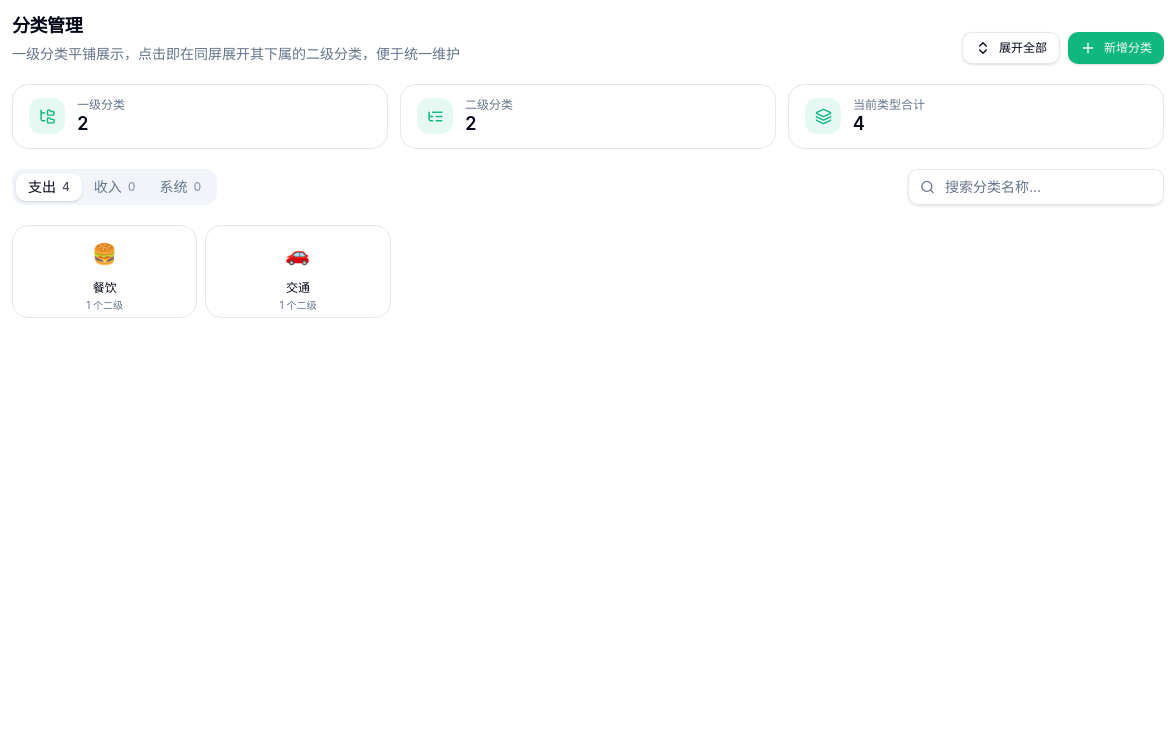
Test: 分类管理页 - 层级展示 › 展开一级分类后，二级分类内联出现在该一级同屏的面板内（核心修复点）
expect the text "餐饮" is shown: met, box [93,280,117,294]
Click the button with test id "category-group" showing "🍔 餐饮 1 个二级" at [105, 271], box [12,224,197,318]
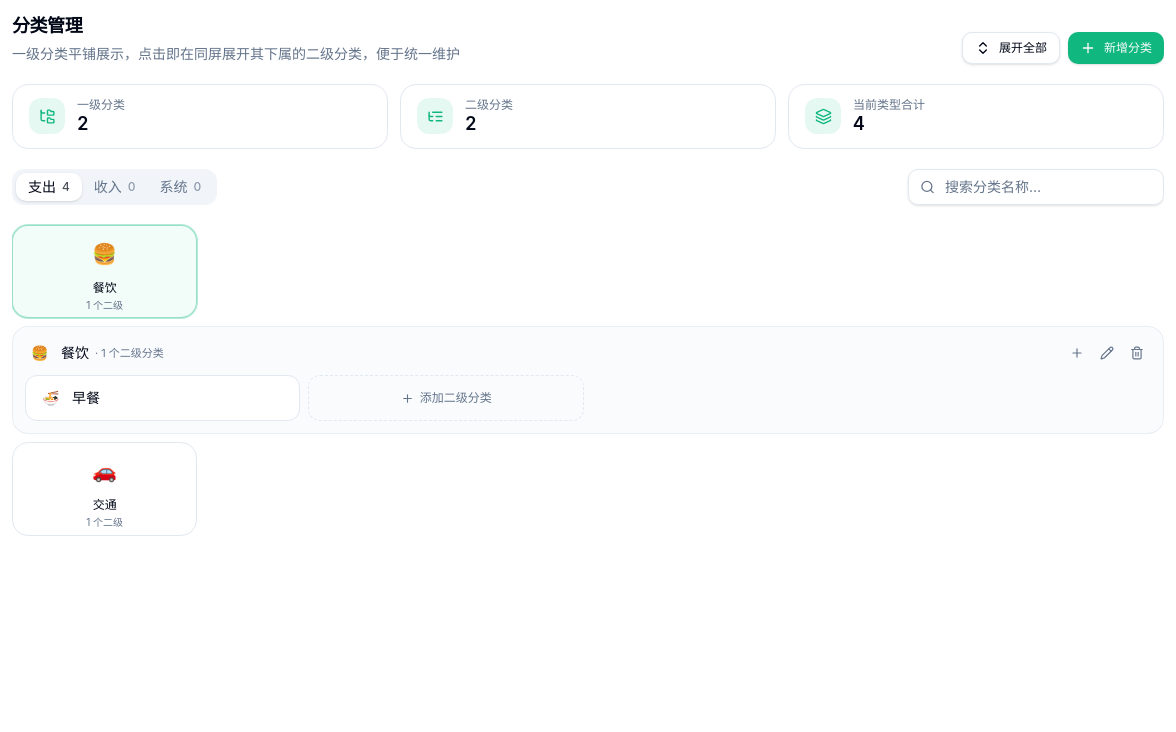
expect the text "早餐" is shown: met, box [72,389,100,406]
